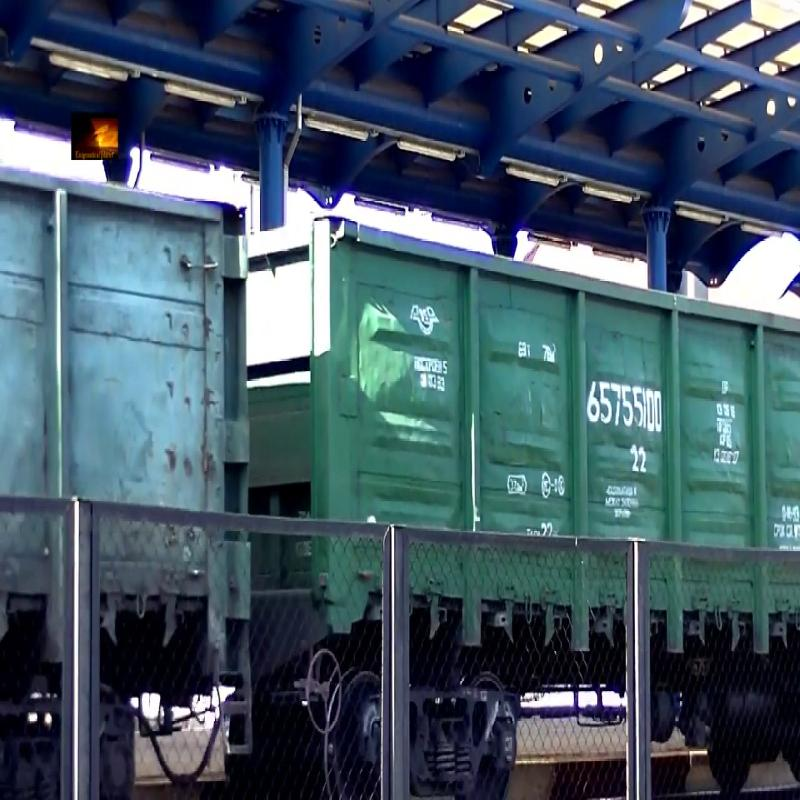train: (299, 47, 800, 771), (3, 49, 290, 773)
